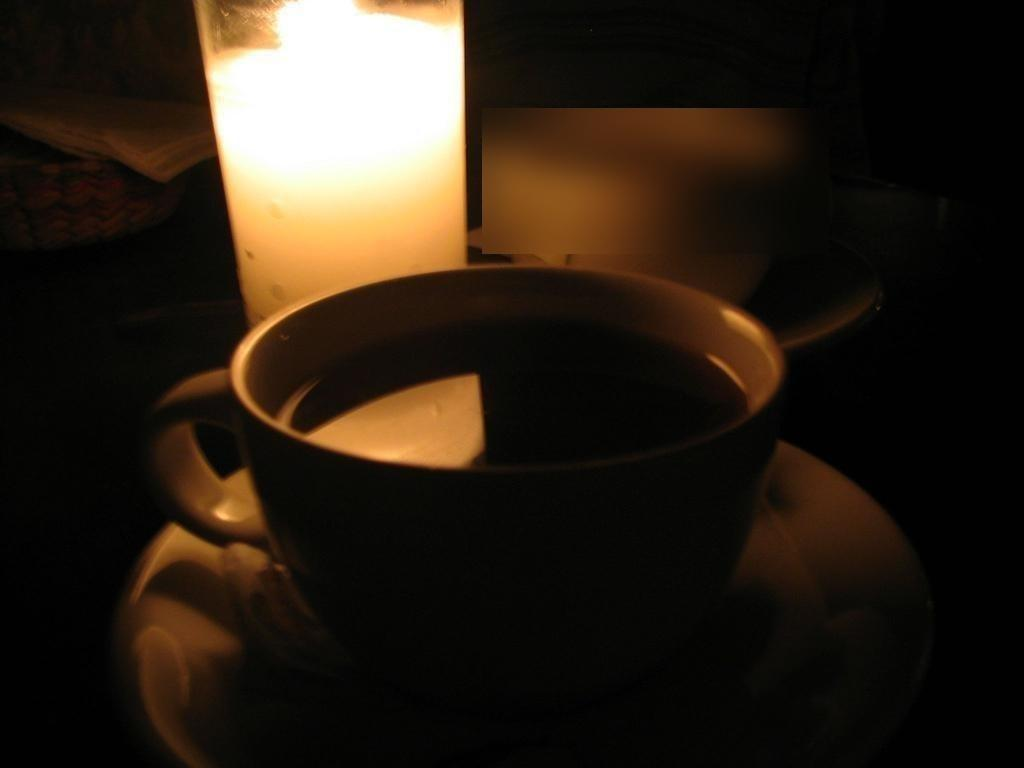cup-handle: (140, 261, 790, 710)
